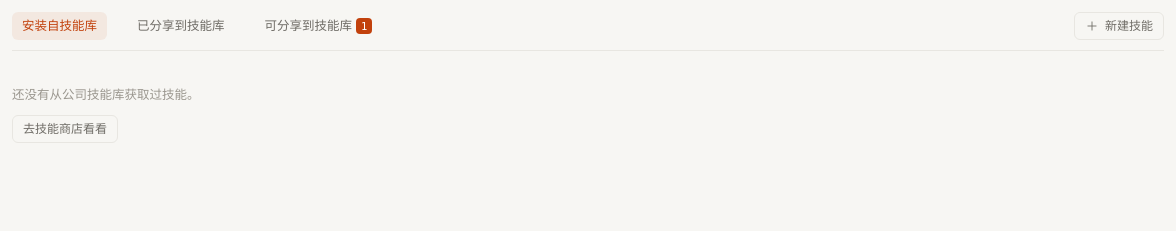
it: 三区排列与判定表接线 › 🔴 D8:只读用户的「分享」是禁用的,并说清为什么,「打开文件夹」仍在
Click the tab "可分享到技能库" at (308, 26), box [264,16,352,36]
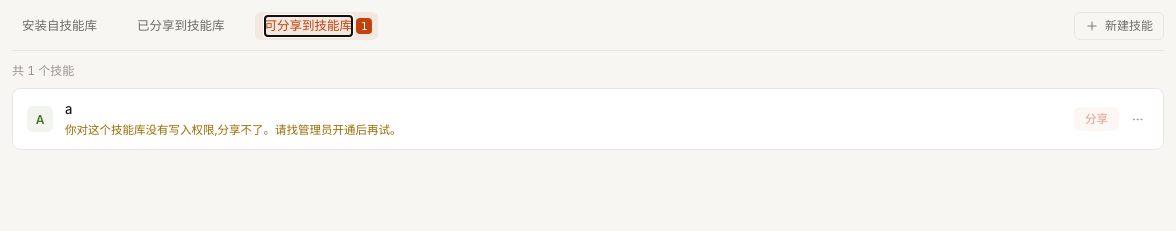
Expected: the button "分享" is disabled, [1074,107,1119,131]
Expected: the text "你对这个技能库没有写入权限,分享不了。请找管理员开通后再试。" is shown, [65,123,402,137]
Click the button named "更多" at (1137, 119), box [1125,107,1149,131]
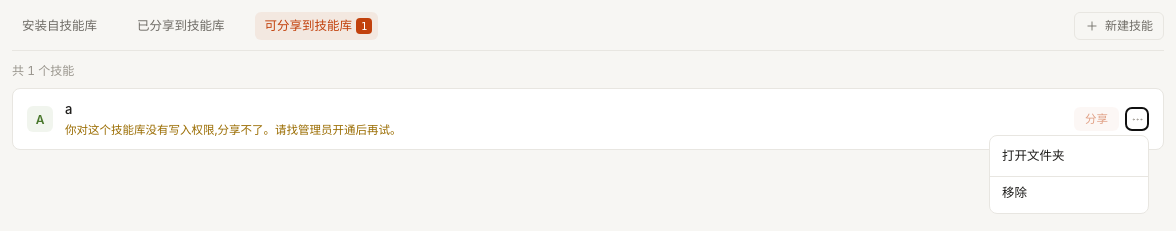
Expected: the menu item "打开文件夹" is shown, [990,140,1148,172]
